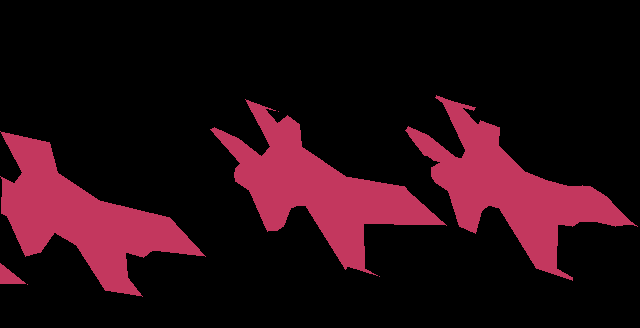Airplane: (405, 95, 637, 281), (210, 99, 447, 277), (0, 131, 205, 297), (0, 263, 27, 285)
